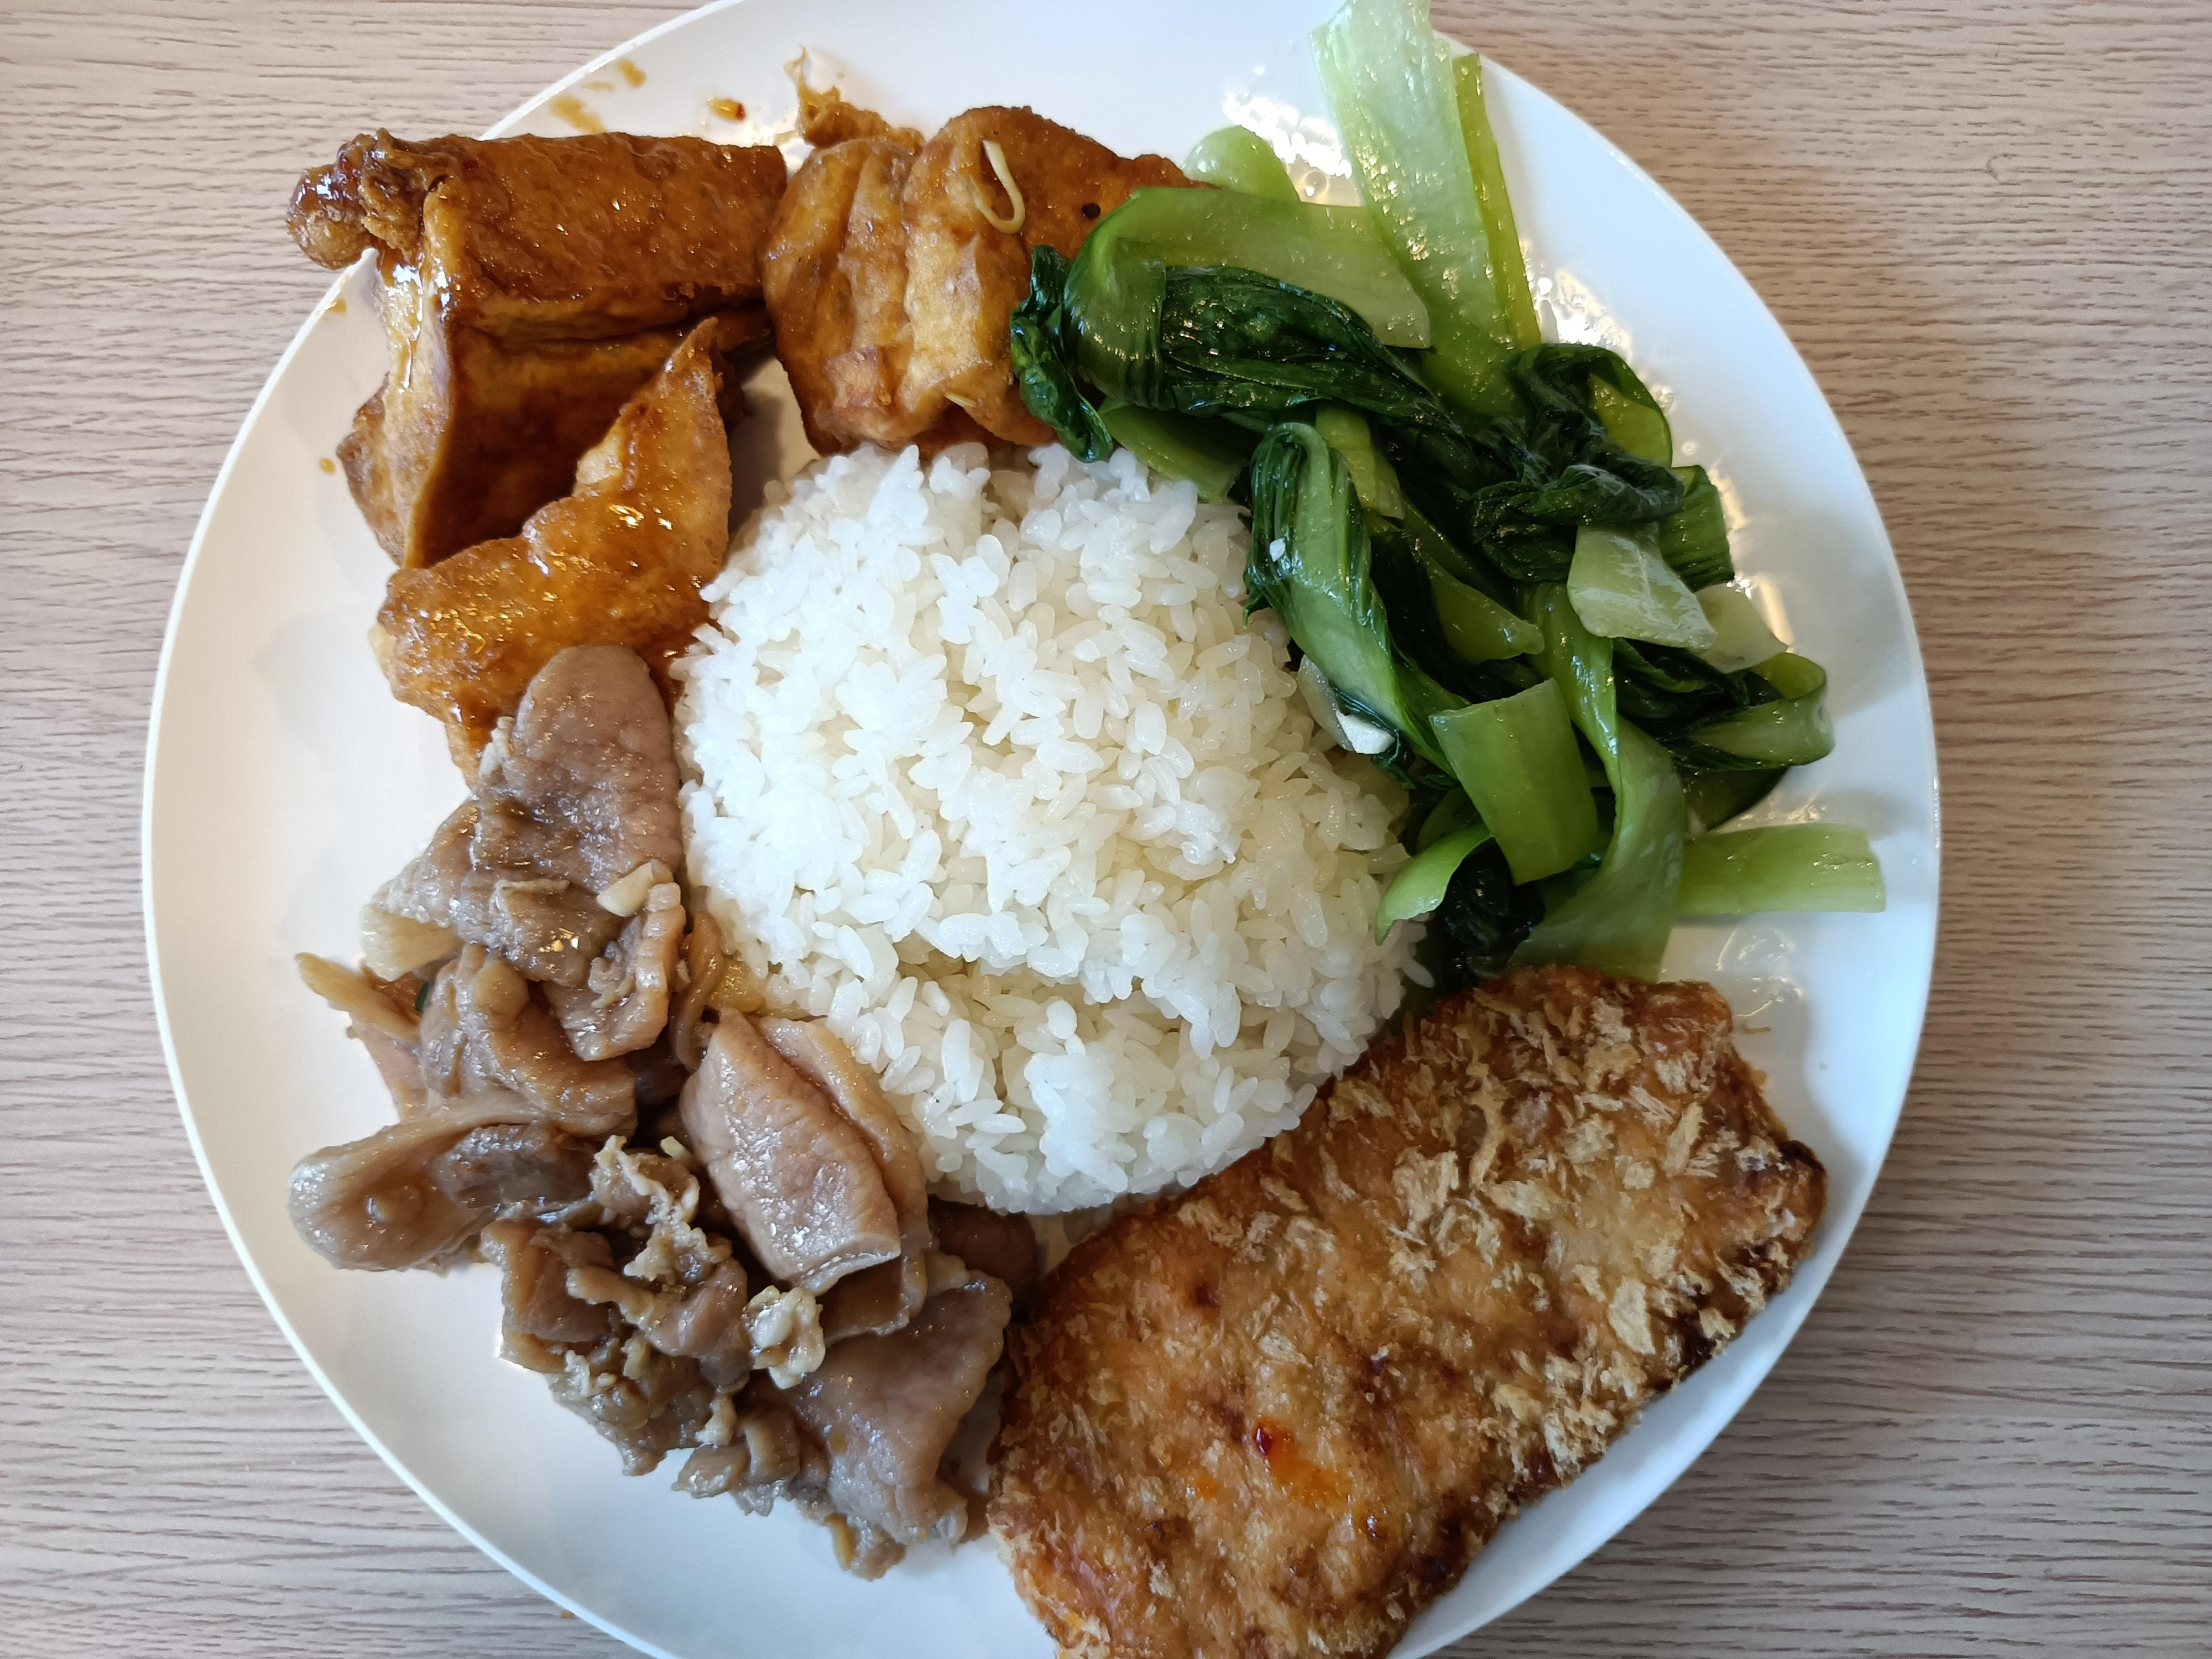big fried chicken leg: (127, 12, 1956, 1659)
braised fish fillet: (1076, 61, 1883, 958), (275, 63, 1120, 721)
